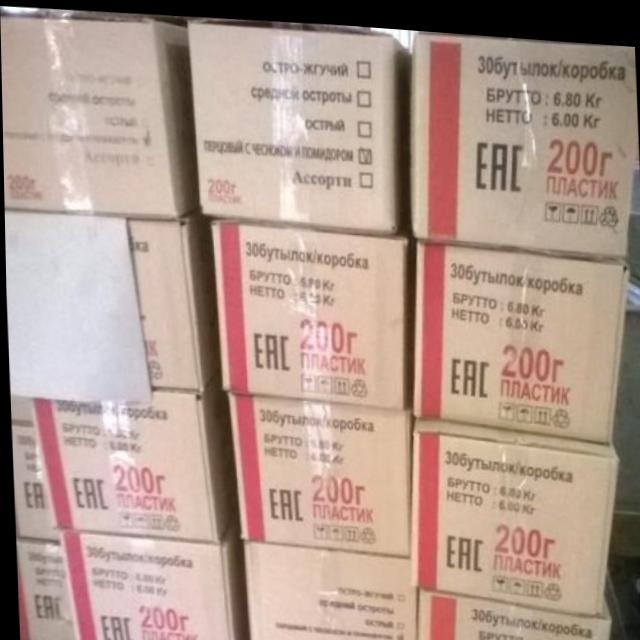box: (412, 29, 636, 251), (188, 17, 411, 231), (411, 232, 626, 436), (0, 13, 199, 220), (411, 412, 615, 607), (209, 214, 408, 403), (28, 370, 234, 538), (223, 386, 409, 549), (50, 510, 242, 640), (240, 540, 413, 640), (128, 211, 218, 386), (414, 583, 608, 640), (16, 539, 70, 640), (9, 421, 50, 541)
